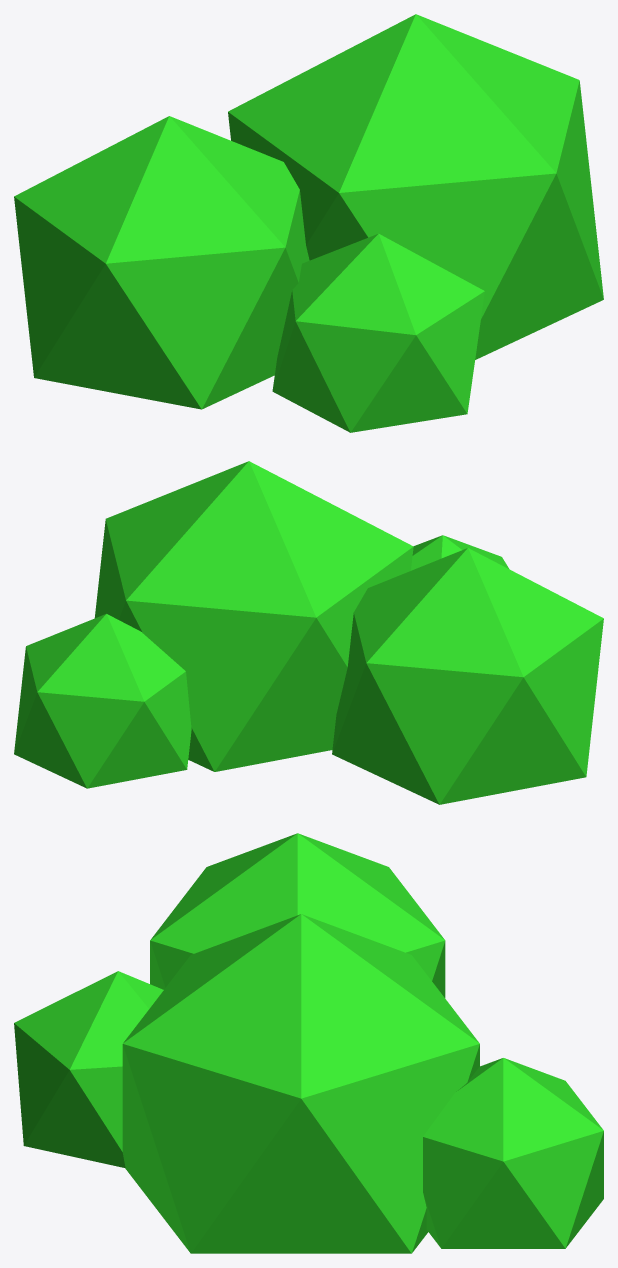
The model's file is Bush Group.fbx.
The picture shows the model from 3 angles, top to bottom: view 1: azimuth 30°, elevation 25°; view 2: azimuth 150°, elevation 25°; view 3: azimuth 270°, elevation 25°; orthographic projection. The views are drawn at different scales.
Visible parts, largest first — view 1: Bush Group; view 2: Bush Group; view 3: Bush Group.
Part boxes in pixels (<box>): Bush Group: <box>14,14,603,432</box>; Bush Group: <box>14,461,603,804</box>; Bush Group: <box>14,833,603,1253</box>.
Bounding box in the file's own units: 299 × 153 × 281.
